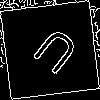U: (25, 25, 81, 84)
